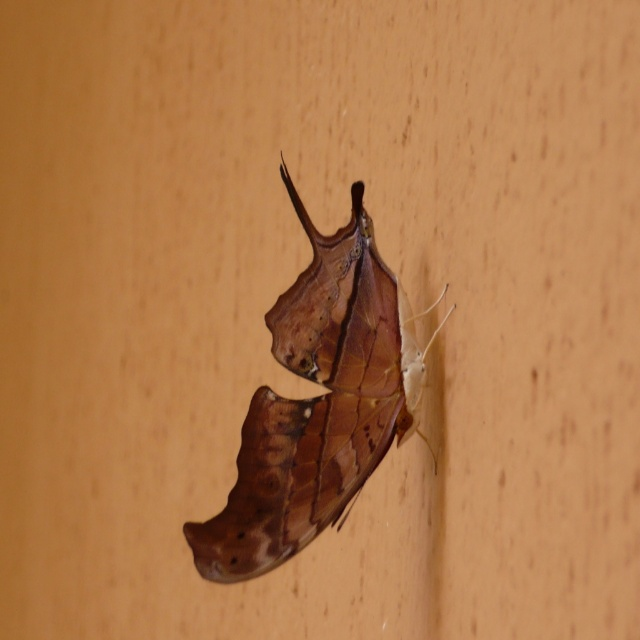Moths and butterflies: (183, 153, 460, 586)
